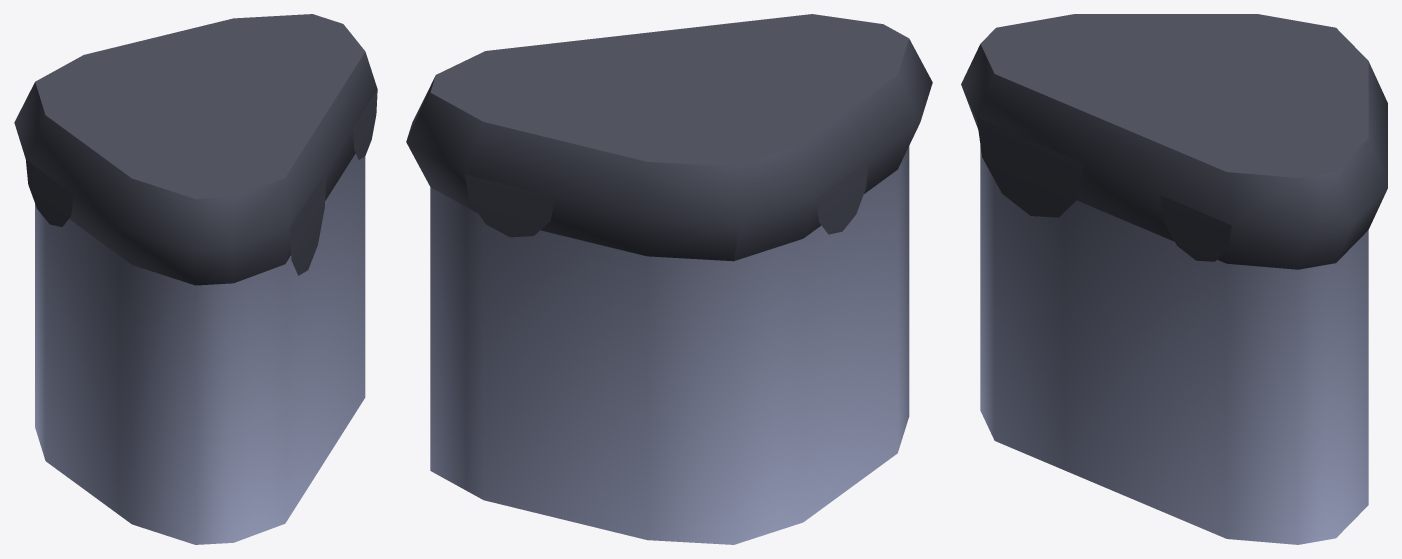
The model's file is block-snow-corner-overhang.glb.
3 views of the same model, side by side, from view 1: azimuth 30°, elevation 25°; view 2: azimuth 150°, elevation 25°; view 3: azimuth 270°, elevation 25° (orthographic). The views are drawn at different scales.
Parts seen in each view (by area): view 1: block-snow-corner-overhang; view 2: block-snow-corner-overhang; view 3: block-snow-corner-overhang.
Part boxes in pixels (x1=…): block-snow-corner-overhang: x1=14, y1=14, x2=377, y2=544; block-snow-corner-overhang: x1=406, y1=14, x2=932, y2=544; block-snow-corner-overhang: x1=961, y1=14, x2=1387, y2=544.
Size of the model in its own units: 1.05 by 1 by 1.05.
